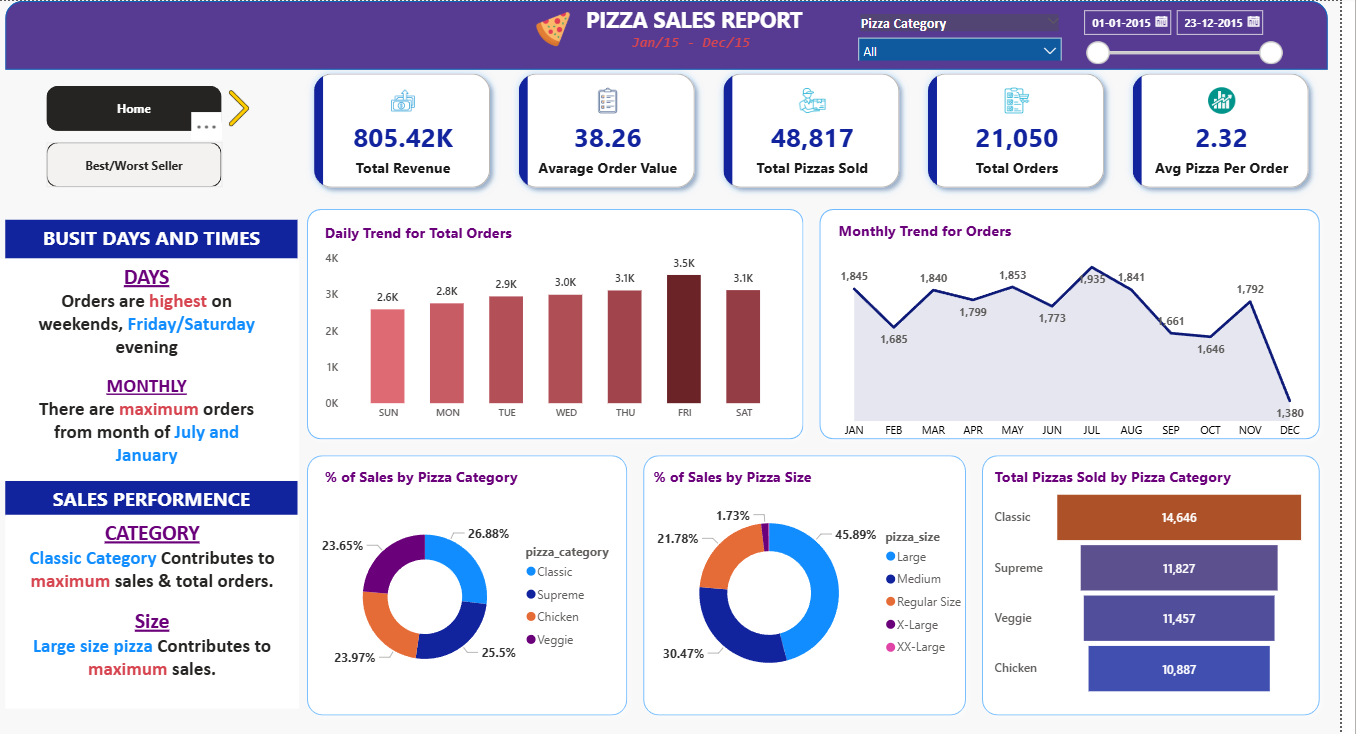

What the dashboard file says about the page in this screenshot:
{"tool":"powerbi","page":{"name":"Home","canvas":[1500,820],"ordinal":0},"visuals":[{"type":"cardVisual","fields":{"Data":["KPI'S.Total Revenue","KPI'S.Avarage Order Value","KPI'S.Total Pizzas Sold","KPI'S.Total Orders","KPI'S.Avg Pizza Per Order"]},"box":[339.8,64.1,1146.2,161.5],"z":0},{"type":"shape","box":[12.5,0,1473.4,76.6],"z":1000},{"type":"textbox","box":[498.7,0,563.1,63],"z":2000},{"type":"textbox","box":[0,31.5,1500.3,31.5],"z":3000},{"type":"image","box":[408.4,7.2,429.9,48.7],"z":4000},{"type":"shape","box":[714.4,497.2,377.4,307.8],"z":5000},{"type":"shape","box":[910.8,222.8,575.2,274.4],"z":6000},{"type":"areaChart","title":"Monthly Trend for Orders","fields":{"Y":["pizza_sales.Total Orders"],"Category":["pizza_sales.Month"]},"box":[935.9,243.7,530.6,253.5],"z":7000},{"type":"shape","box":[339.8,497.2,374.6,307.8],"z":8000},{"type":"shape","box":[1091.9,497.2,394.1,307.8],"z":9000},{"type":"donutChart","title":"% of Sales by Pizza Category","fields":{"Category":["pizza_sales.pizza_category"],"Y":["pizza_sales.Total Revenue"]},"box":[363.5,518.1,342.6,270.2],"z":10000},{"type":"shape","box":[339.8,222.8,571,274.4],"z":11000},{"type":"columnChart","title":"Daily Trend for Total Orders","fields":{"Category":["pizza_sales.Order Day"],"Y":["pizza_sales.Total Orders"]},"box":[363.5,246.5,523.6,229.8],"z":12000},{"type":"donutChart","title":"% of Sales by Pizza Size","fields":{"Y":["pizza_sales.Total Revenue"],"Category":["pizza_sales.pizza_size"]},"box":[729.8,518.1,362.1,261.8],"z":13000},{"type":"funnel","title":"Total Pizzas Sold by Pizza Category","fields":{"Category":["pizza_sales.pizza_category"],"Y":["pizza_sales.Total Pizzas Sold"]},"box":[1110,518.1,356.5,261.8],"z":14000},{"type":"textbox","box":[12.5,243.7,325.9,43.2],"z":15000},{"type":"textbox","box":[0,287.1,340,247.1],"z":16000},{"type":"textbox","box":[12.9,534.3,325.7,38.6],"z":24502},{"type":"textbox","box":[12.9,572.9,327.1,215.7],"z":24503},{"type":"slicer","fields":{"Values":["pizza_sales.order_date"]},"box":[1201.9,0,246.5,76.6],"z":24504},{"type":"slicer","fields":{"Values":["pizza_sales.pizza_size"]},"box":[952.6,9.7,246.5,57.1],"z":24505},{"type":"pageNavigator","box":[58.6,94.3,195.7,50],"z":24506},{"type":"pageNavigator","box":[58.6,157.1,195.7,50],"z":24508},{"type":"image","box":[122.9,94.3,300,50],"z":24509}]}

Visuals, with their boxes in screenshot pixels (x1, y1, x2, y2), scaled from the page's 1500x820 canvas onto the 1356x734 screenshot:
cardVisual - KPI'S.Total Revenue x KPI'S.Avarage Order Value: {"x1": 307, "y1": 57, "x2": 1343, "y2": 202}
shape: {"x1": 11, "y1": 0, "x2": 1343, "y2": 69}
textbox: {"x1": 451, "y1": 0, "x2": 960, "y2": 56}
textbox: {"x1": 0, "y1": 28, "x2": 1355, "y2": 56}
image: {"x1": 369, "y1": 6, "x2": 758, "y2": 50}
shape: {"x1": 646, "y1": 445, "x2": 987, "y2": 721}
shape: {"x1": 823, "y1": 199, "x2": 1343, "y2": 445}
"Monthly Trend for Orders" areaChart: {"x1": 846, "y1": 218, "x2": 1326, "y2": 445}
shape: {"x1": 307, "y1": 445, "x2": 646, "y2": 721}
shape: {"x1": 987, "y1": 445, "x2": 1343, "y2": 721}
"% of Sales by Pizza Category" donutChart: {"x1": 329, "y1": 464, "x2": 638, "y2": 706}
shape: {"x1": 307, "y1": 199, "x2": 823, "y2": 445}
"Daily Trend for Total Orders" columnChart: {"x1": 329, "y1": 221, "x2": 802, "y2": 426}
"% of Sales by Pizza Size" donutChart: {"x1": 660, "y1": 464, "x2": 987, "y2": 698}
"Total Pizzas Sold by Pizza Category" funnel: {"x1": 1003, "y1": 464, "x2": 1326, "y2": 698}
textbox: {"x1": 11, "y1": 218, "x2": 306, "y2": 257}
textbox: {"x1": 0, "y1": 257, "x2": 307, "y2": 478}
textbox: {"x1": 12, "y1": 478, "x2": 306, "y2": 513}
textbox: {"x1": 12, "y1": 513, "x2": 307, "y2": 706}
slicer - pizza_sales.order_date: {"x1": 1087, "y1": 0, "x2": 1309, "y2": 69}
slicer - pizza_sales.pizza_size: {"x1": 861, "y1": 9, "x2": 1084, "y2": 60}
pageNavigator: {"x1": 53, "y1": 84, "x2": 230, "y2": 129}
pageNavigator: {"x1": 53, "y1": 141, "x2": 230, "y2": 185}
image: {"x1": 111, "y1": 84, "x2": 382, "y2": 129}
